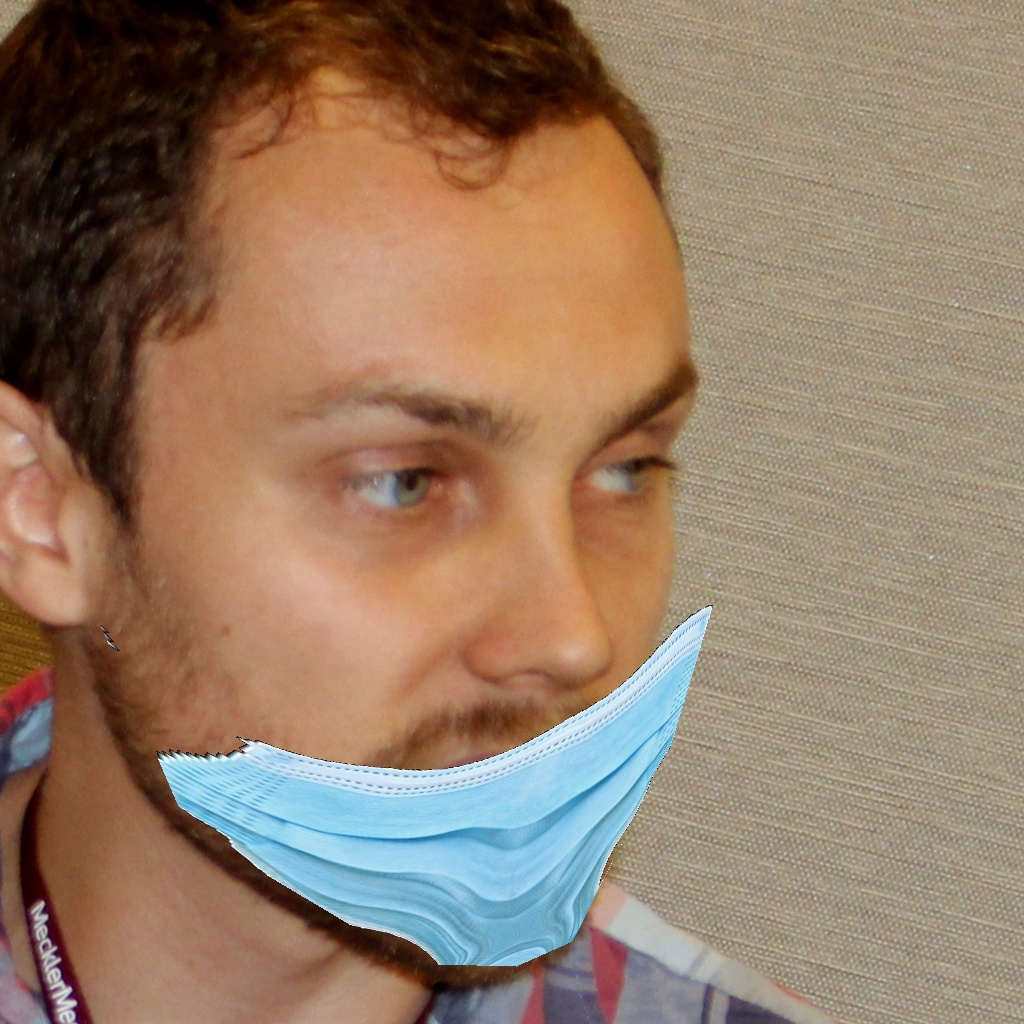Mask_Mouth_Chin: (155, 360, 715, 982)
